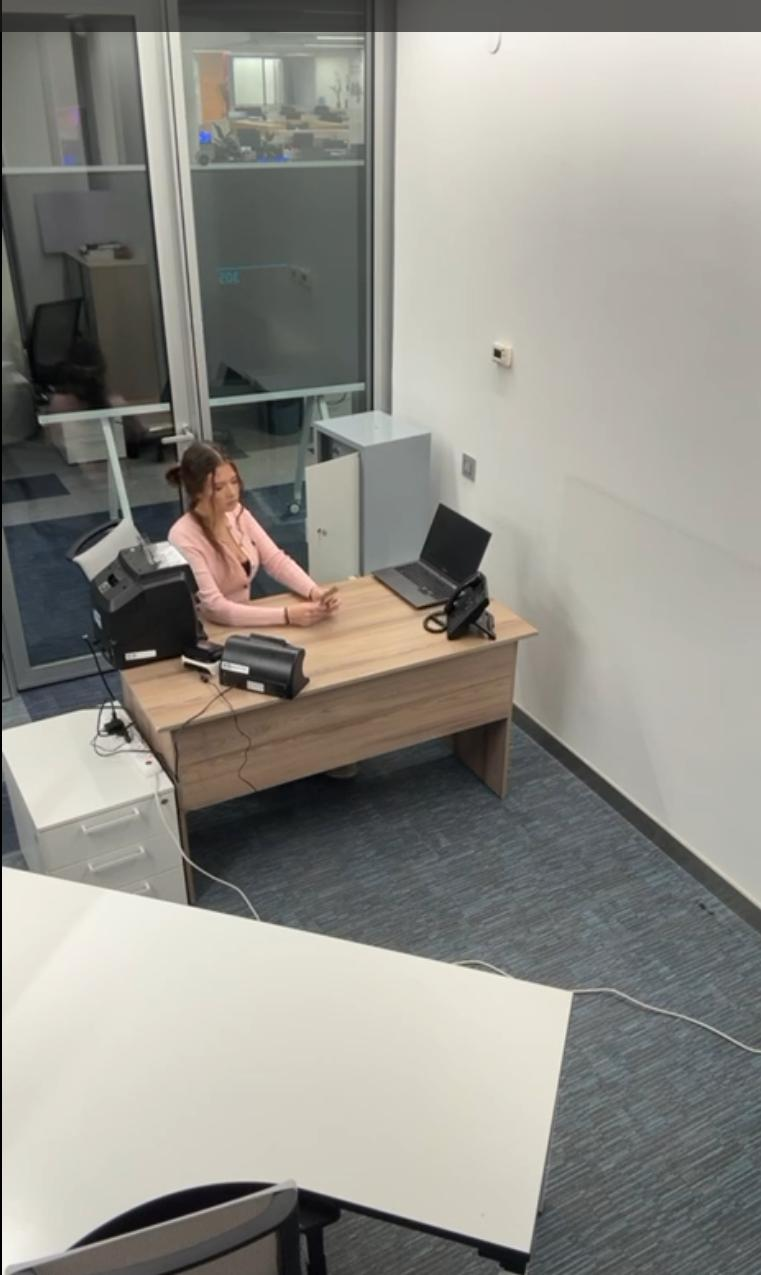cash_stack: (303, 580, 354, 634)
counter: (73, 536, 206, 669)
key_in: (312, 514, 338, 558)
safe_open: (303, 411, 434, 582)
uv_lamp: (220, 622, 308, 709)
